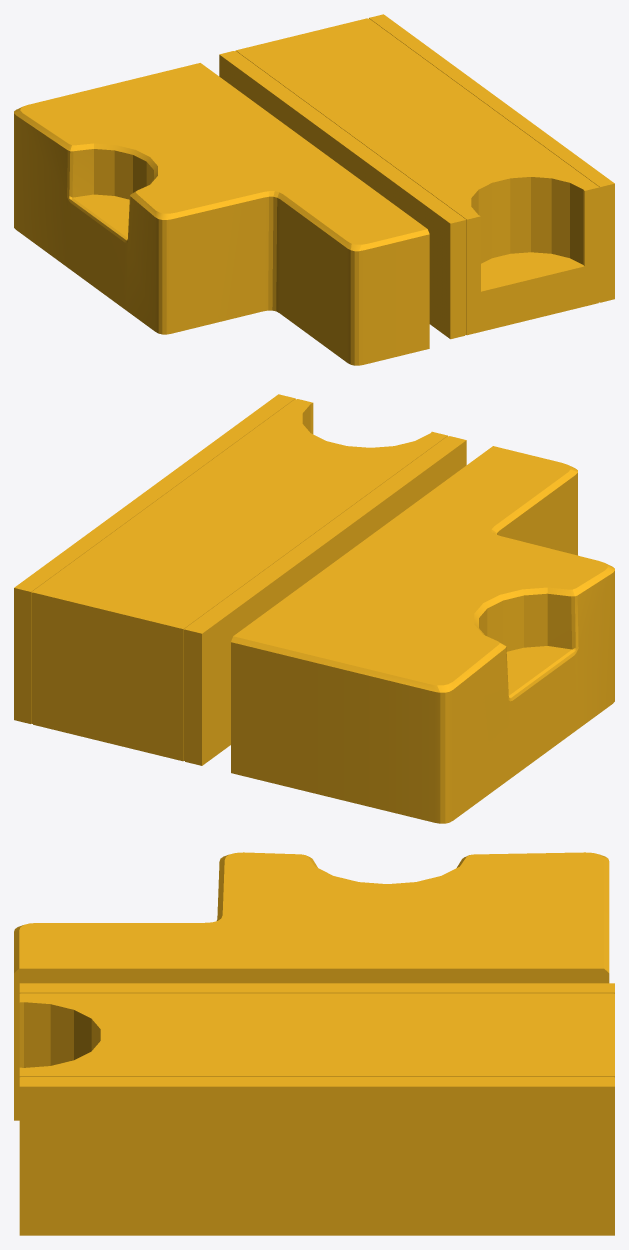
File: uvgroup02_unity.fbx
The picture shows the model from 3 angles, top to bottom: view 1: azimuth 30°, elevation 25°; view 2: azimuth 150°, elevation 25°; view 3: azimuth 270°, elevation 25°; orthographic projection. The views are drawn at different scales.
Parts seen in each view (by area): view 1: Temple_floor_06_low001, Temple_floor_05_low001; view 2: Temple_floor_06_low001, Temple_floor_05_low001; view 3: Temple_floor_05_low001, Temple_floor_06_low001.
Part boxes in pixels (bbox=[...]): Temple_floor_06_low001: bbox=[14, 63, 429, 365]; Temple_floor_05_low001: bbox=[219, 14, 614, 339]; Temple_floor_06_low001: bbox=[231, 446, 614, 823]; Temple_floor_05_low001: bbox=[14, 394, 466, 765]; Temple_floor_05_low001: bbox=[19, 983, 614, 1235]; Temple_floor_06_low001: bbox=[14, 852, 609, 1120].
Bounding box in the file's own units: 11572 × 3477 × 12452.
